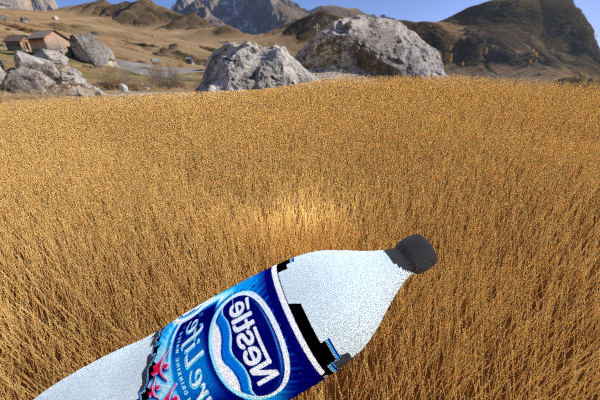bottle: (0, 233, 437, 400)
can: (524, 126, 600, 179)
